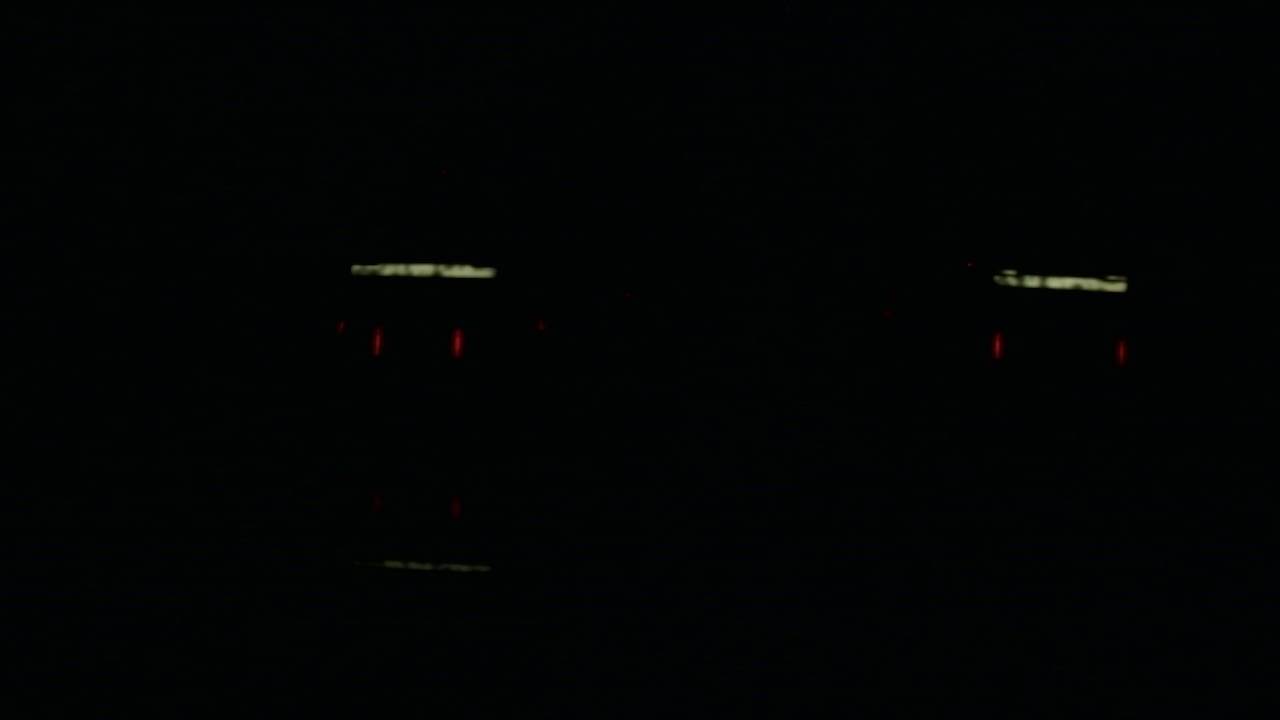lamp: (990, 333, 1001, 363), (373, 328, 383, 354), (454, 327, 463, 353), (1117, 333, 1124, 362)
pair1: (375, 329, 462, 354)
pair2: (991, 334, 1125, 363)
